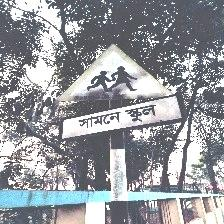School-in-front: (56, 43, 182, 140)
